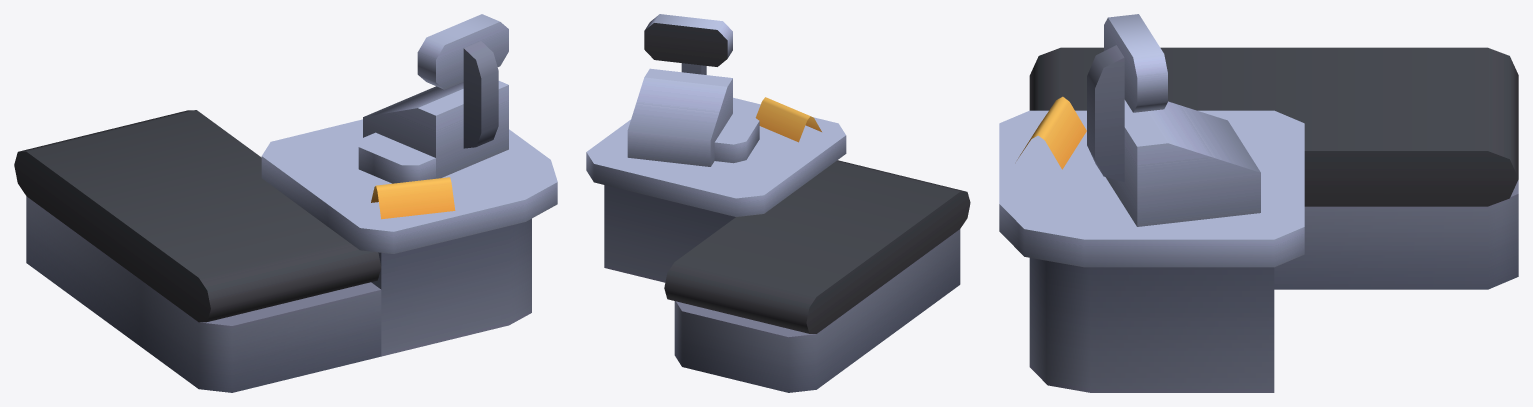
Rendered from cash_register.glb.
The picture shows the model from 3 angles, left to right: view 1: azimuth 30°, elevation 25°; view 2: azimuth 150°, elevation 25°; view 3: azimuth 270°, elevation 25°; orthographic projection. The views are drawn at different scales.
Visible parts, largest first — view 1: cash-register; view 2: cash-register; view 3: cash-register.
Part boxes in pixels (box(x1,y1,x2,y2)): cash-register: box(14, 14, 557, 392); cash-register: box(586, 14, 970, 392); cash-register: box(999, 14, 1518, 392).
Bounding box in the file's own units: 0.85 × 0.5949 × 0.85.
Materials: 1 (1 with a texture image).
